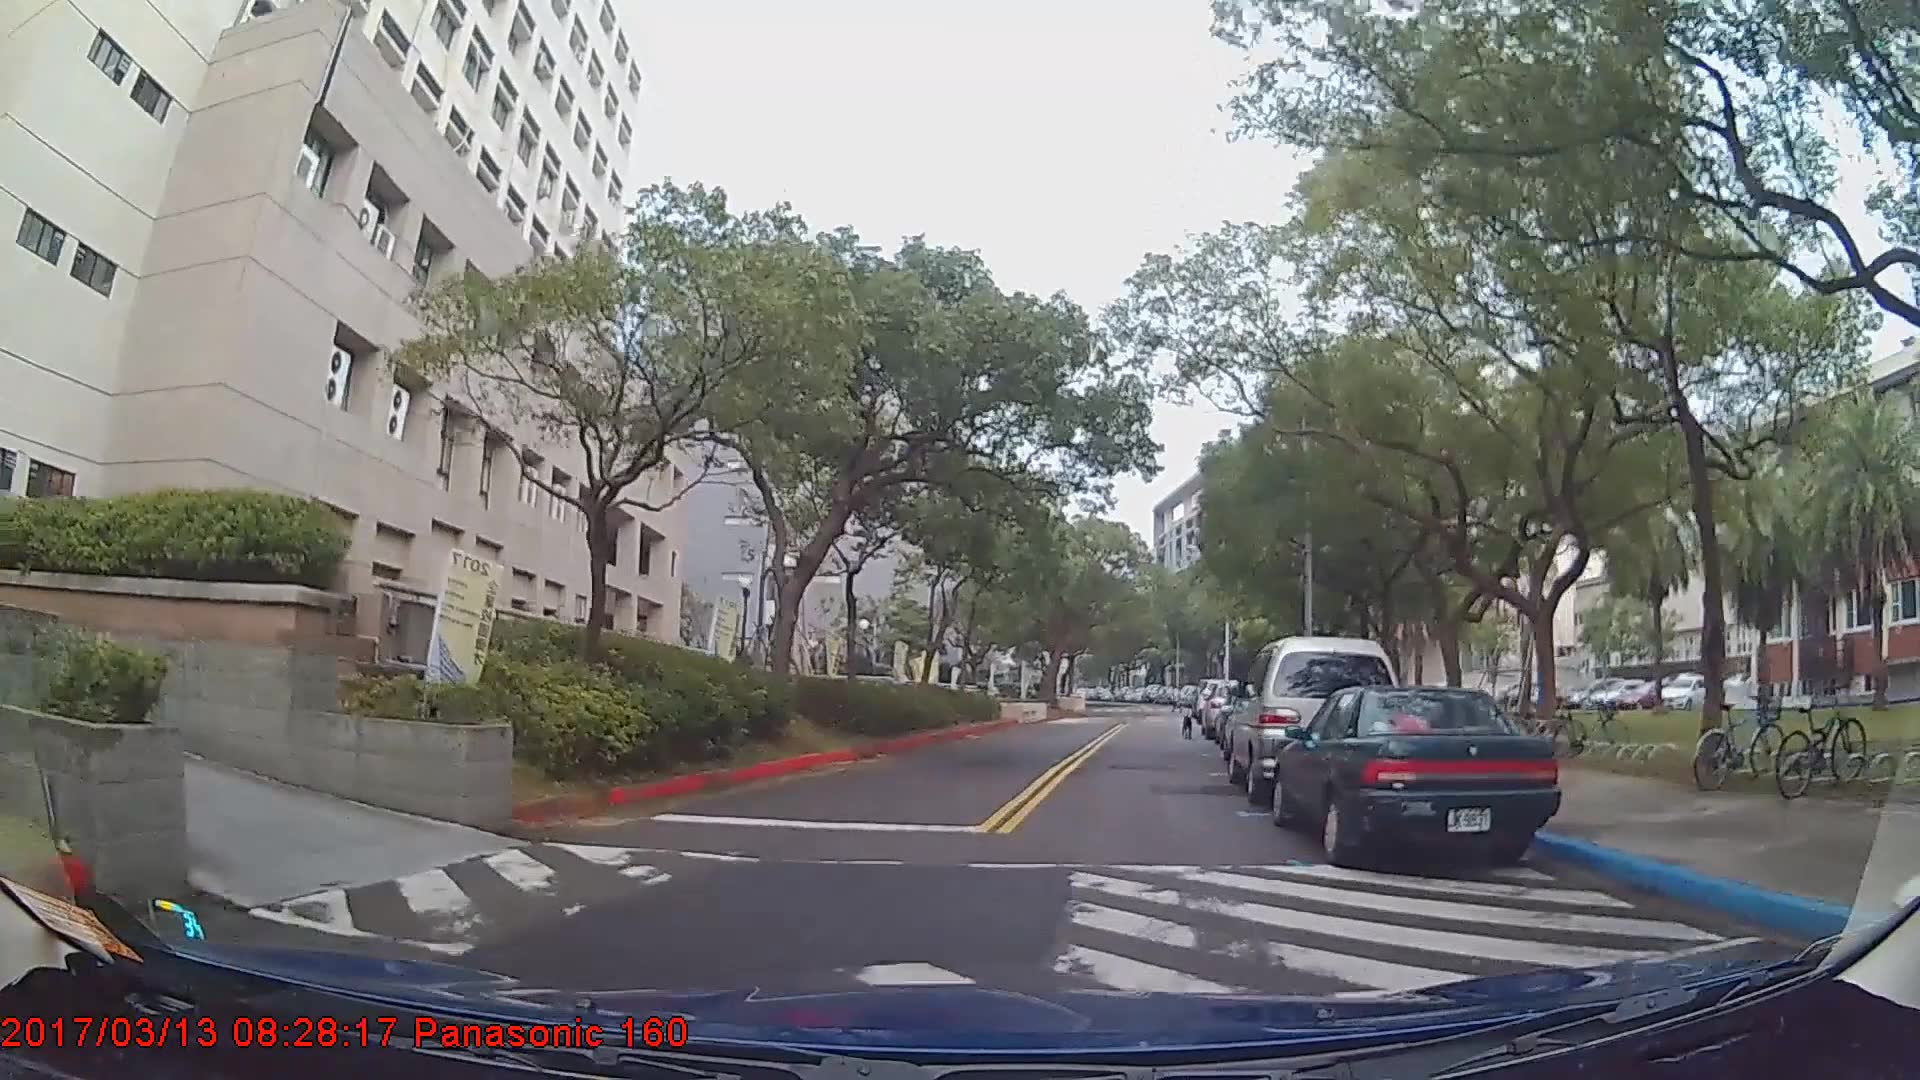vehicle: (1270, 680, 1561, 864), (1228, 633, 1400, 803)
